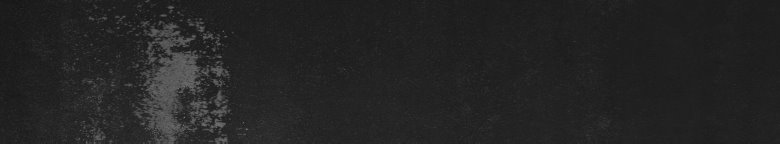kb: (140, 6, 208, 136)
